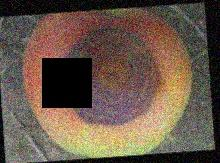rotten apple: (22, 9, 198, 156)
